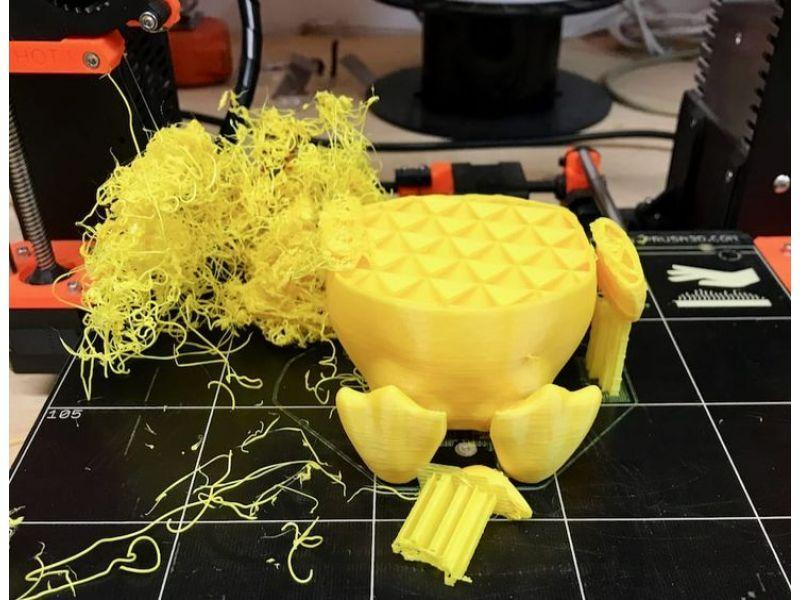Printing-Artifact: (66, 86, 399, 370)
